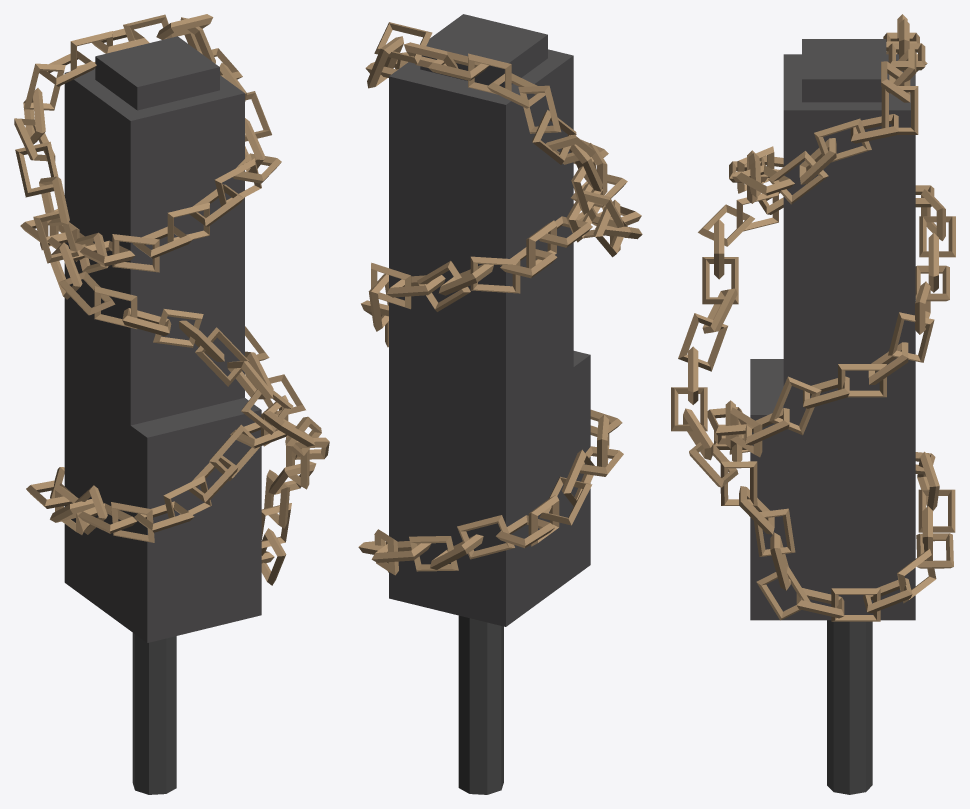
Rendered from sealedsword.obj.
3 views of the same model, side by side, from view 1: azimuth 30°, elevation 25°; view 2: azimuth 150°, elevation 25°; view 3: azimuth 270°, elevation 25° (orthographic). The views are drawn at different scales.
Parts seen in each view (by area): view 1: Cube; view 2: Cube; view 3: Cube.
Part boxes in pixels (bbox=[...]): Cube: bbox=[14, 14, 329, 794]; Cube: bbox=[358, 14, 642, 794]; Cube: bbox=[671, 14, 955, 794].
Size of the model in its own units: 4.07 by 12.38 by 4.31.
